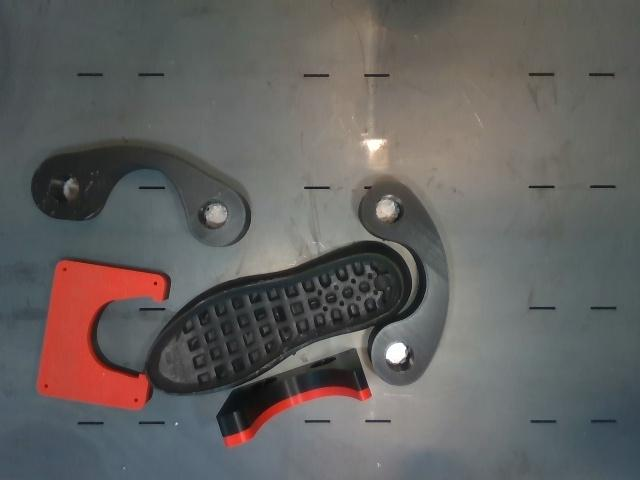shoes: (146, 255, 403, 393)
